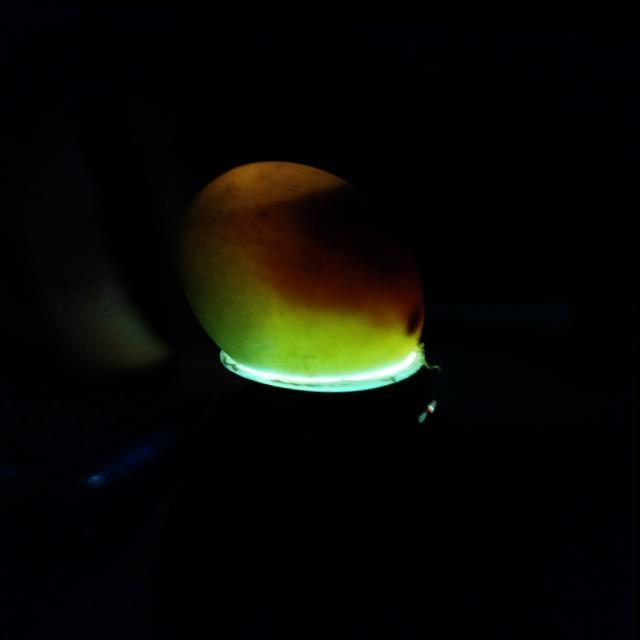Area Infectada: (247, 177, 426, 333)
